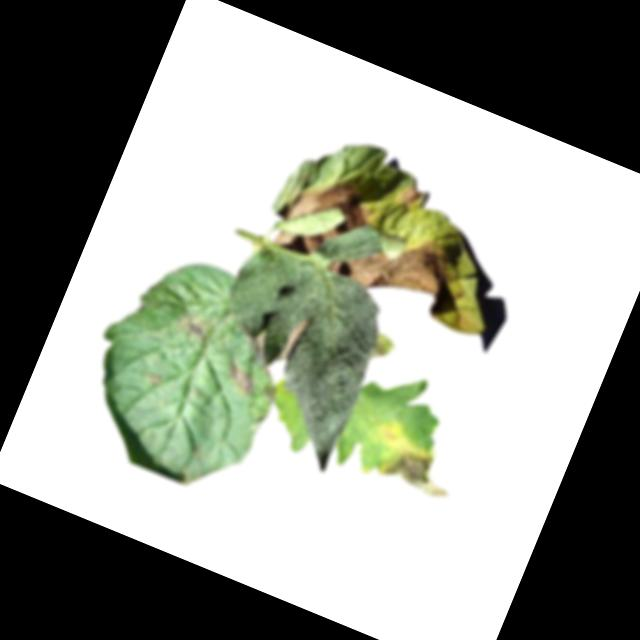Late_blight: (327, 209, 478, 325), (270, 164, 376, 273), (361, 417, 466, 504), (174, 308, 216, 349), (276, 314, 309, 366), (220, 360, 262, 400), (397, 181, 429, 214), (368, 333, 397, 368), (142, 370, 166, 393)
